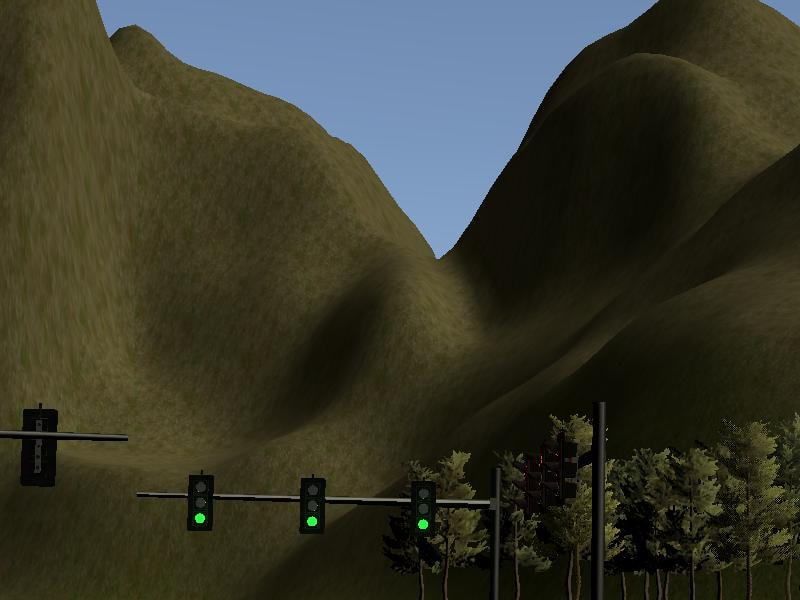green: (187, 476, 213, 530), (299, 478, 325, 532), (410, 480, 436, 534)
